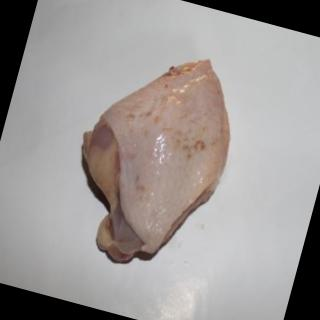Ayam: (55, 36, 252, 284)
